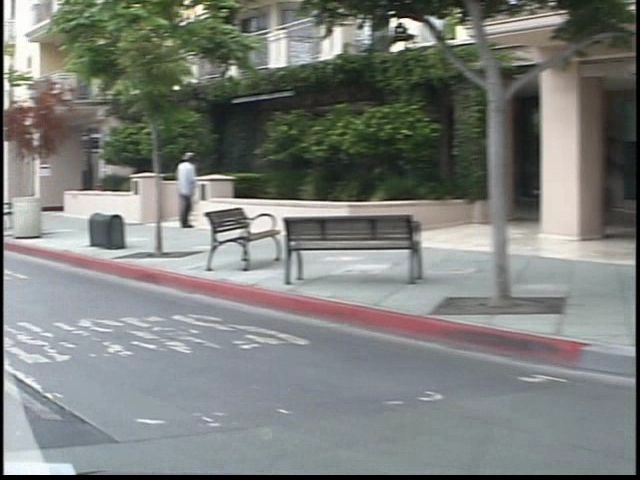person: (153, 148, 189, 238)
